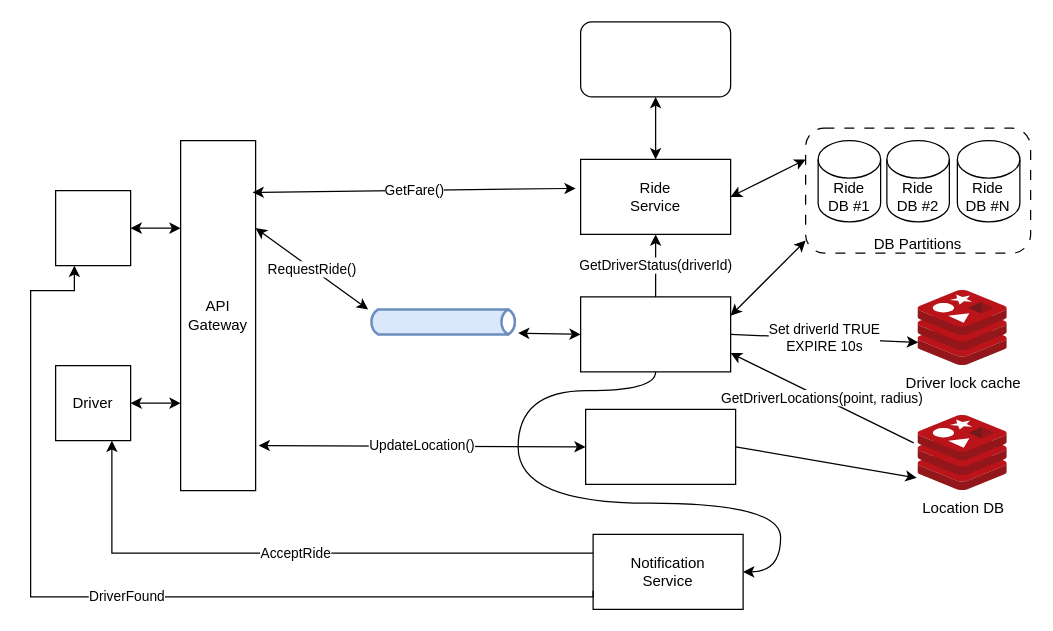
Image size: 1053x631. Some labels were removed from this diagram. The centre of each missing label's shape, as x and y in pixels:
"Location Service" goes at pixel 660 446.
"Mapping Service" goes at pixel 655 59.
"Ride Match Service" goes at pixel 655 334.
"Ride queue" goes at pixel 442 321.
"User" goes at pixel 92 227.
